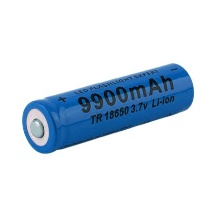battery: (17, 59, 199, 158)
